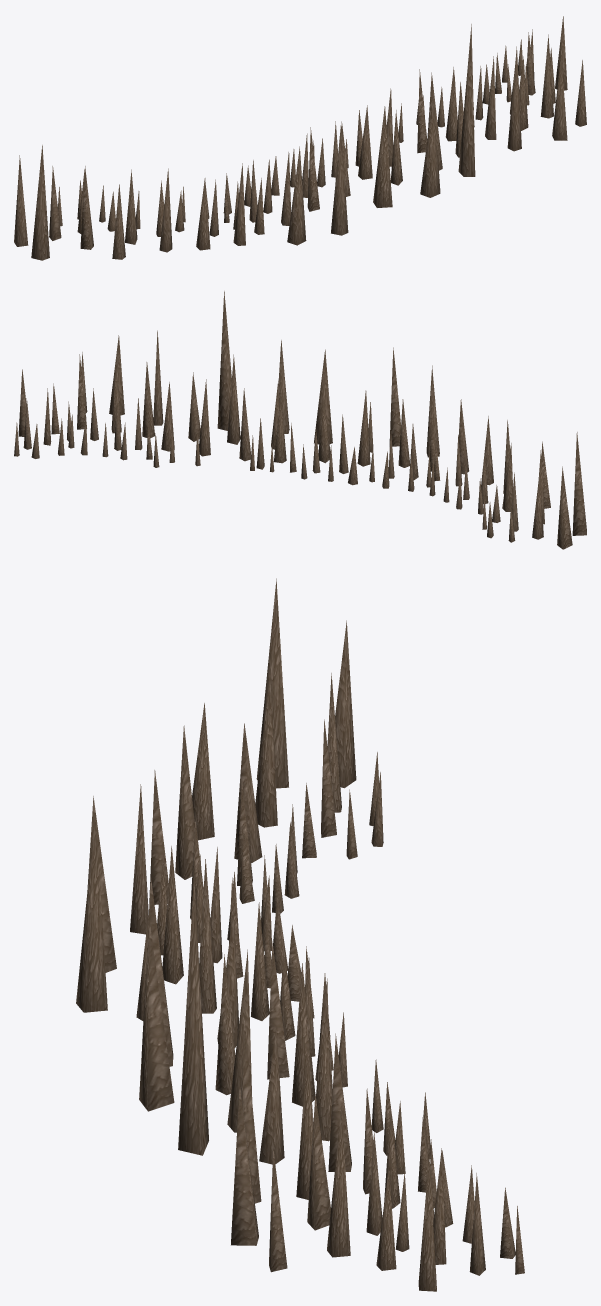
Rendered from area_03_31.fbx.
The picture shows the model from 3 angles, top to bottom: view 1: azimuth 30°, elevation 25°; view 2: azimuth 150°, elevation 25°; view 3: azimuth 270°, elevation 25°; orthographic projection. The views are drawn at different scales.
Visible parts, largest first — view 1: area_03_31; view 2: area_03_31; view 3: area_03_31.
Boxes of the visible parts, bbox=[...] form: area_03_31: bbox=[14, 16, 586, 260]; area_03_31: bbox=[14, 291, 586, 549]; area_03_31: bbox=[76, 578, 524, 1291].
Bounding box in the file's own units: 99.85 × 25.08 × 36.74.
